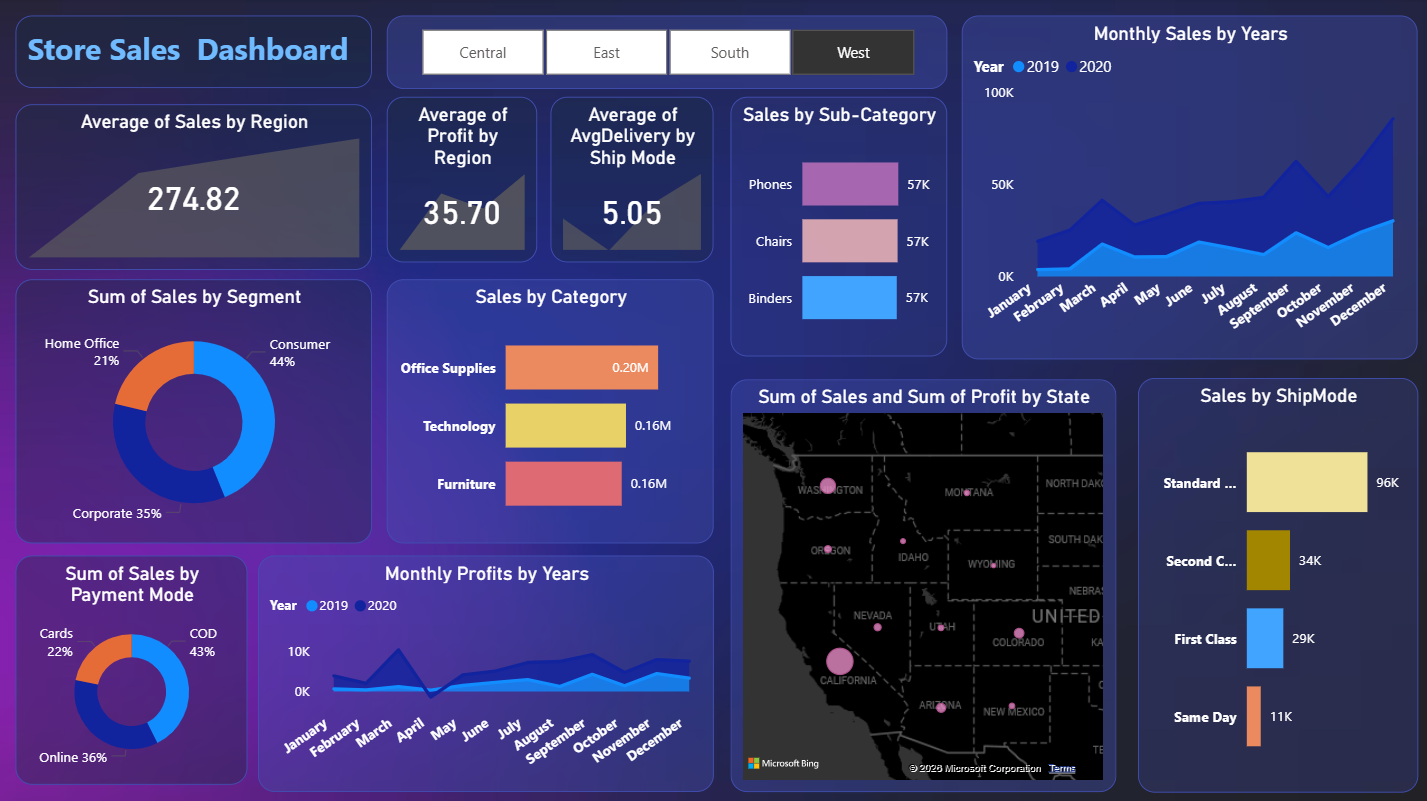

Layout of this report page (visuals, bound fields, positions):
{"tool":"powerbi","page":{"name":"Page 1","canvas":[1280,720],"ordinal":0},"visuals":[{"type":"clusteredBarChart","title":"Sales by Category","fields":{"Category":["Sheet1.Category"],"Y":["Sum(Sheet1.Sales)"]},"box":[347.2,251.1,292.3,236],"z":0},{"type":"clusteredBarChart","title":"Sales by Sub-Category","fields":{"Category":["Sheet1.Sub-Category"],"Y":["Sum(Sheet1.Sales)"]},"box":[654.5,87.8,193.5,231.9],"z":1000},{"type":"clusteredBarChart","title":"Sales by ShipMode","fields":{"Category":["Sheet1.Ship Mode"],"Y":["Sum(Sheet1.Sales)"]},"box":[1018.3,340,250,370],"z":2000},{"type":"stackedAreaChart","title":"Monthly Sales by Years","fields":{"Category":["Sheet1.Order Date.Variation.Date Hierarchy.Month","Sheet1.Order Date.Variation.Date Hierarchy.Day"],"Y":["Sum(Sheet1.Sales)"],"Series":["Sheet1.Order Date.Variation.Date Hierarchy.Year"]},"box":[860.4,15.1,407.5,307.4],"z":3000},{"type":"stackedAreaChart","title":"Monthly Profits by Years","fields":{"Category":["Sheet1.Order Date.Variation.Date Hierarchy.Month","Sheet1.Order Date.Variation.Date Hierarchy.Day"],"Series":["Sheet1.Order Date.Variation.Date Hierarchy.Year"],"Y":["Sum(Sheet1.Profit)"]},"box":[231.9,498.1,407.5,211.3],"z":4000},{"type":"map","fields":{"Category":["Sheet1.State"],"Size":["Sum(Sheet1.Sales)"]},"box":[654.5,340.3,344.4,369.1],"z":5000},{"type":"donutChart","fields":{"Category":["Sheet1.Segment"],"Y":["Sum(Sheet1.Sales)"]},"box":[15.1,251.1,318.4,236],"z":6000},{"type":"donutChart","fields":{"Category":["Sheet1.Payment Mode"],"Y":["Sum(Sheet1.Sales)"]},"box":[15.1,498.1,207.2,204.5],"z":7000},{"type":"slicer","fields":{"Values":["Sheet1.Region"]},"box":[347.2,15.1,500.9,65.9],"z":8000},{"type":"textbox","box":[15.1,15.1,318.4,64.5],"z":9000},{"type":"kpi","fields":{"Indicator":["Avg(SuperStore_Sales_Dataset.Sales)"],"TrendLine":["SuperStore_Sales_Dataset.Region"]},"box":[15.1,94.7,318.4,148.2],"z":10000},{"type":"kpi","fields":{"Indicator":["Avg(SuperStore_Sales_Dataset.Profit)"],"TrendLine":["SuperStore_Sales_Dataset.Region"]},"box":[347.2,87.8,134.5,148.2],"z":11000},{"type":"kpi","fields":{"Indicator":["Avg(SuperStore_Sales_Dataset.AvgDelivery)"],"TrendLine":["SuperStore_Sales_Dataset.Ship Mode"]},"box":[494,87.8,145.5,148.2],"z":13000}]}

Visuals, with their boxes in screenshot pixels (x1, y1, x2, y2), scaled from the page's 1280x720 canvas onto the 1427x801 screenshot:
"Sales by Category" clusteredBarChart: pyautogui.locateOnScreen(387, 279, 713, 542)
"Sales by Sub-Category" clusteredBarChart: pyautogui.locateOnScreen(730, 98, 945, 356)
"Sales by ShipMode" clusteredBarChart: pyautogui.locateOnScreen(1135, 378, 1414, 790)
"Monthly Sales by Years" stackedAreaChart: pyautogui.locateOnScreen(959, 17, 1414, 359)
"Monthly Profits by Years" stackedAreaChart: pyautogui.locateOnScreen(259, 554, 713, 789)
map - Sheet1.State x Sum(Sheet1.Sales): pyautogui.locateOnScreen(730, 379, 1114, 789)
donutChart - Sheet1.Segment x Sum(Sheet1.Sales): pyautogui.locateOnScreen(17, 279, 372, 542)
donutChart - Sheet1.Payment Mode x Sum(Sheet1.Sales): pyautogui.locateOnScreen(17, 554, 248, 782)
slicer - Sheet1.Region: pyautogui.locateOnScreen(387, 17, 945, 90)
textbox: pyautogui.locateOnScreen(17, 17, 372, 89)
kpi - Avg(SuperStore_Sales_Dataset.Sales) x SuperStore_Sales_Dataset.Region: pyautogui.locateOnScreen(17, 105, 372, 270)
kpi - Avg(SuperStore_Sales_Dataset.Profit) x SuperStore_Sales_Dataset.Region: pyautogui.locateOnScreen(387, 98, 537, 263)
kpi - Avg(SuperStore_Sales_Dataset.AvgDelivery) x SuperStore_Sales_Dataset.Ship Mode: pyautogui.locateOnScreen(551, 98, 713, 263)
